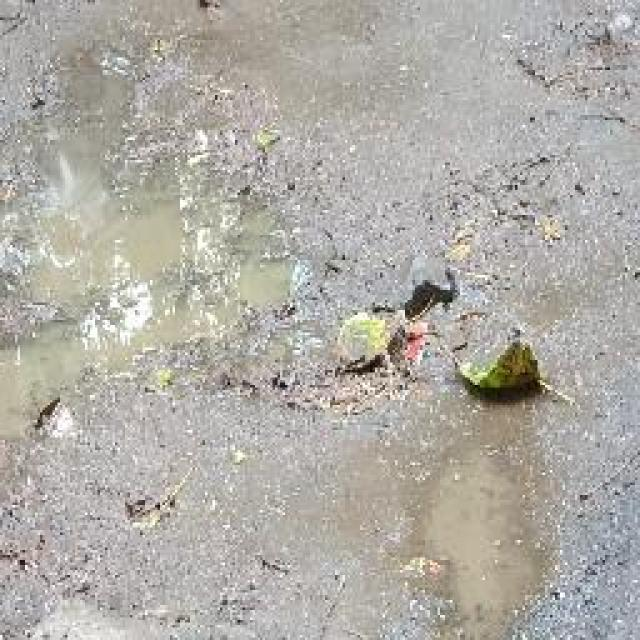puddle: (1, 62, 296, 452), (419, 446, 541, 640)
